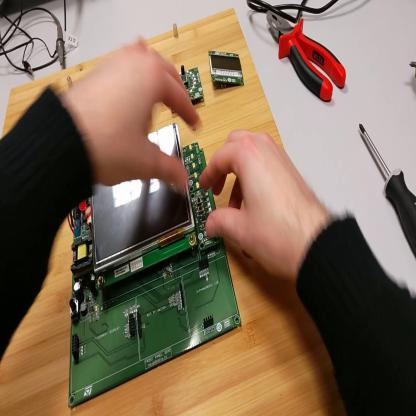hand: (64, 38, 202, 197), (200, 128, 319, 282)
low voltage board: (68, 123, 242, 410)
pliers: (266, 11, 348, 105)
screwdriver-: (359, 124, 416, 257)
working area: (2, 10, 348, 414)
